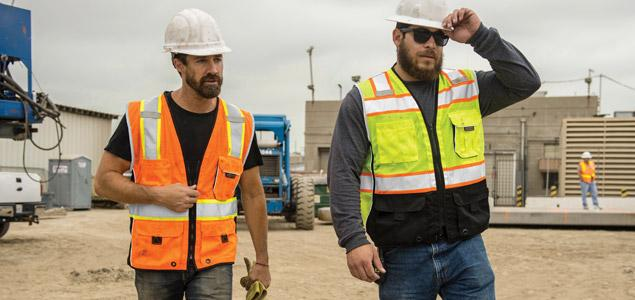helmet: (161, 10, 232, 58), (386, 1, 456, 34), (581, 152, 594, 161)
